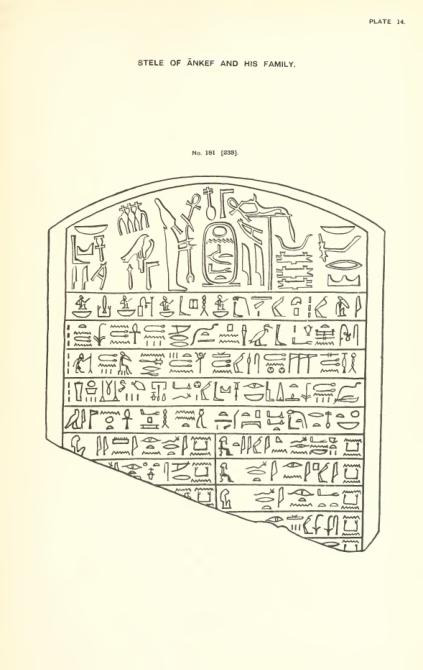circle: (201, 220, 243, 289)
